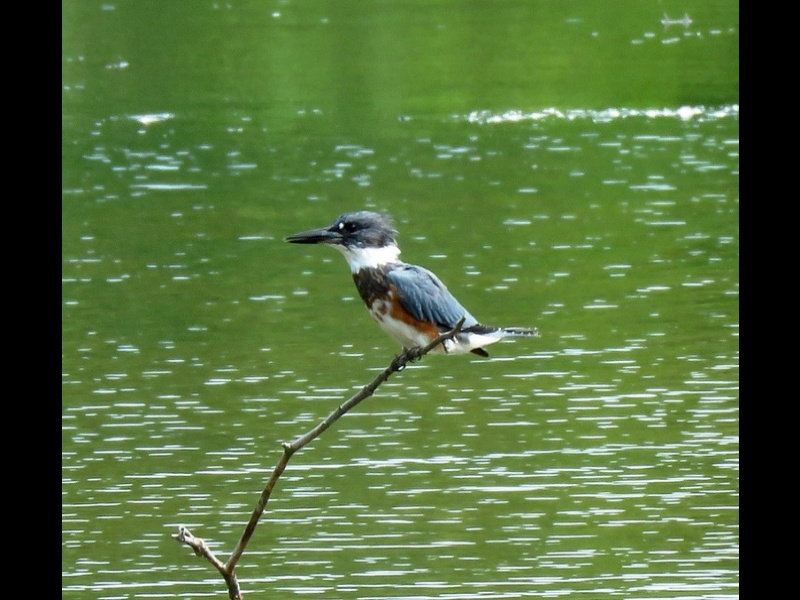kingfisher: (284, 206, 538, 366)
